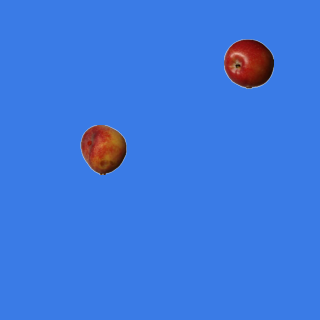Apple Braeburn: (223, 38, 273, 88)
Peach: (78, 124, 128, 174)
